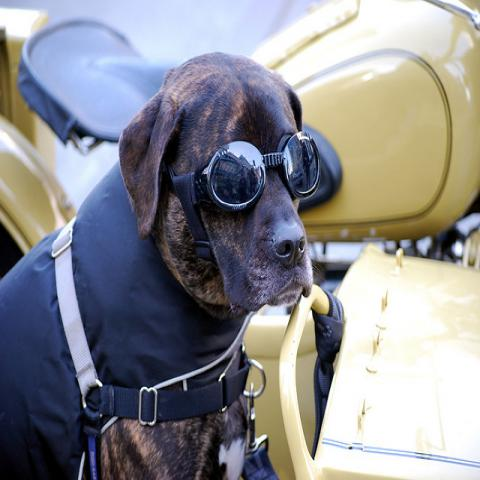motorcycle: (1, 1, 478, 401)
